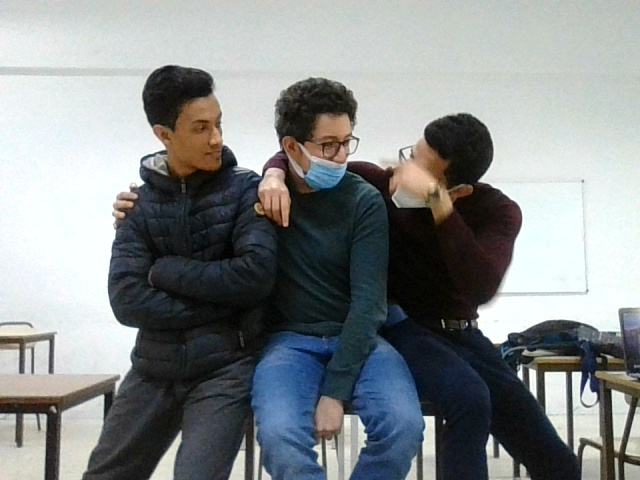mask_weared_incorrect: (278, 80, 362, 197)
without_mask: (143, 69, 237, 182)
